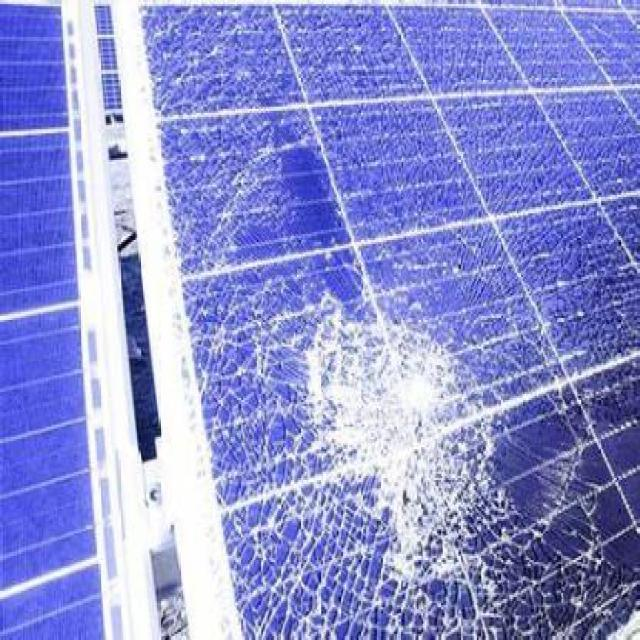cracked: (121, 4, 640, 640)
